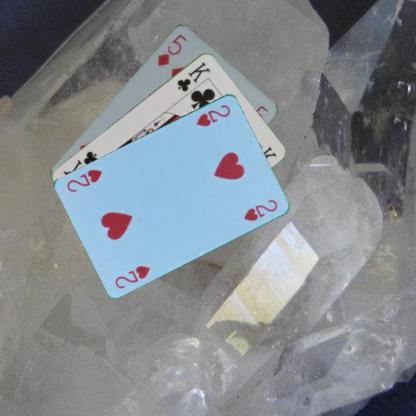2h: (112, 262, 152, 290), (194, 102, 232, 128)
5d: (155, 30, 188, 68)
Kc: (174, 59, 212, 93)
